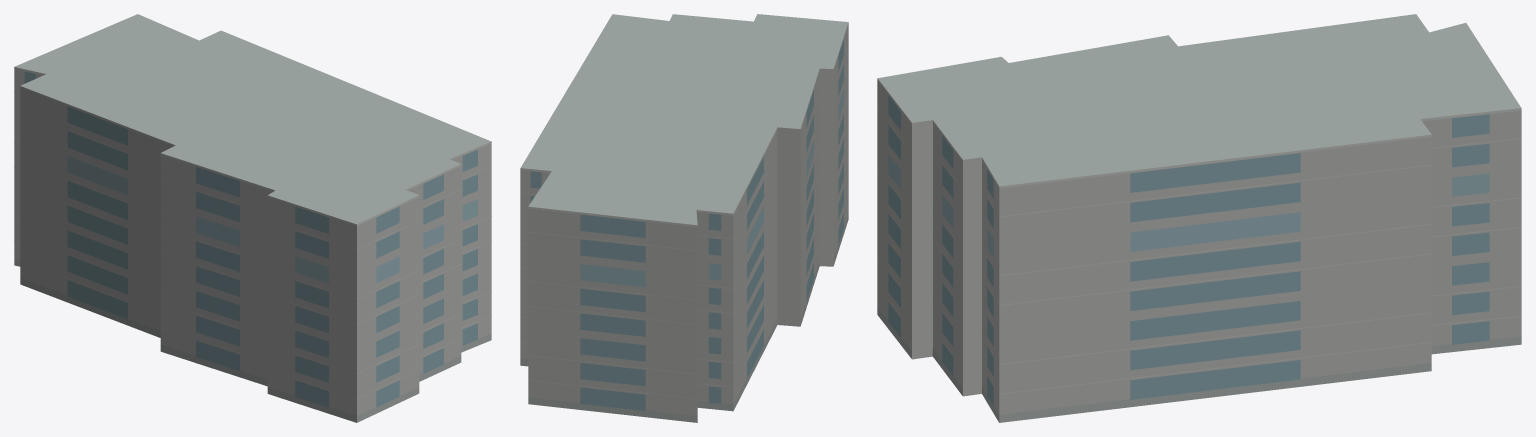
Rendered from survey-upis-32467779.glb.
The picture shows the model from 3 angles, left to right: view 1: azimuth 30°, elevation 25°; view 2: azimuth 150°, elevation 25°; view 3: azimuth 270°, elevation 25°; orthographic projection. The views are drawn at different scales.
Parts seen in each view (by area): view 1: survey-upis-32467779.tmp; view 2: survey-upis-32467779.tmp; view 3: survey-upis-32467779.tmp.
Boxes of the visible parts, x1,y1,x2,y2 form: survey-upis-32467779.tmp: (14,14,491,422); survey-upis-32467779.tmp: (520,14,848,422); survey-upis-32467779.tmp: (877,14,1521,422).
Bounding box in the file's own units: 38.17 × 24.4 × 60.25.
